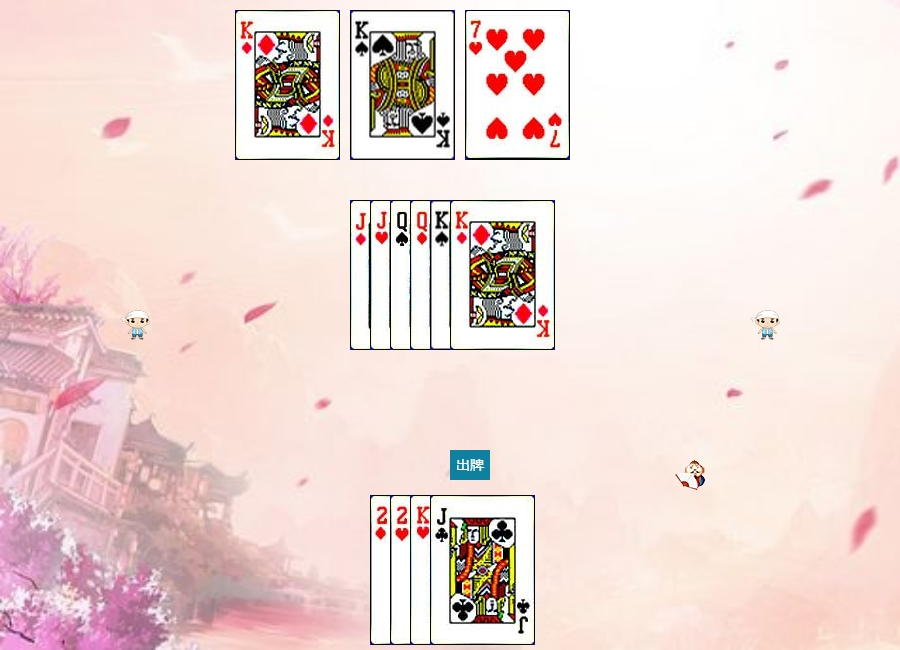11~1: (350, 200, 455, 350)
11~2: (430, 495, 535, 645)
11~3: (370, 200, 475, 350)
12~1: (410, 200, 515, 350)
12~4: (390, 200, 495, 350)
13~1: (235, 10, 340, 160), (450, 199, 554, 350)
13~3: (410, 495, 515, 645)
13~4: (350, 10, 455, 160), (430, 200, 535, 350)
15~1: (370, 495, 475, 645)
15~3: (390, 495, 495, 645)
7~3: (465, 10, 570, 160)
